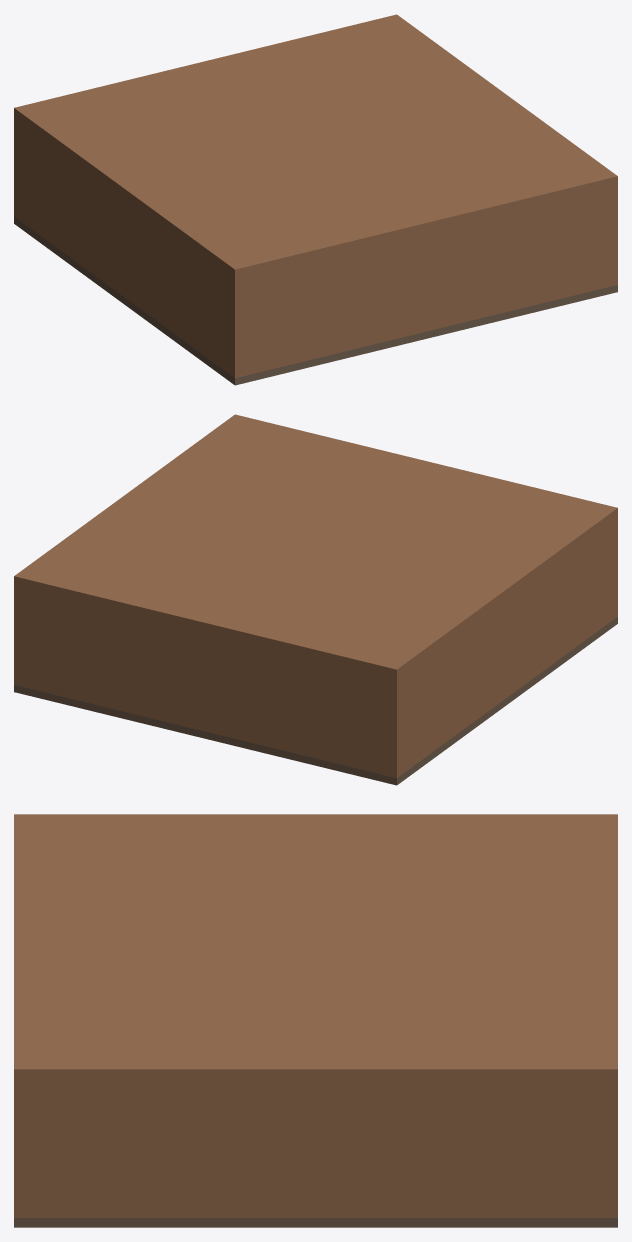
Rendered from desague.glb.
The picture shows the model from 3 angles, top to bottom: view 1: azimuth 30°, elevation 25°; view 2: azimuth 150°, elevation 25°; view 3: azimuth 270°, elevation 25°; orthographic projection. The views are drawn at different scales.
Visible parts, largest first — view 1: Des_techo-convcol, Des_muro_s-convcol, Des_muro_o-convcol, Des_piso-convcol; view 2: Des_techo-convcol, Des_muro_n-convcol, Des_muro_o-convcol, Des_piso-convcol; view 3: Des_techo-convcol, Des_muro_e-convcol, Des_piso-convcol, Des_muro_n-convcol, Des_muro_s-convcol.
Boxes of the visible parts, x1,y1,x2,y2 form: Des_techo-convcol: [14, 14, 617, 276]; Des_muro_s-convcol: [231, 183, 617, 378]; Des_muro_o-convcol: [18, 118, 230, 374]; Des_piso-convcol: [14, 217, 617, 385]; Des_techo-convcol: [14, 414, 617, 676]; Des_muro_n-convcol: [14, 583, 400, 778]; Des_muro_o-convcol: [401, 518, 613, 774]; Des_piso-convcol: [14, 617, 617, 785]; Des_techo-convcol: [14, 814, 617, 1079]; Des_muro_e-convcol: [25, 1079, 606, 1217]; Des_piso-convcol: [14, 1218, 617, 1227]; Des_muro_n-convcol: [607, 1079, 617, 1217]; Des_muro_s-convcol: [14, 1079, 24, 1217].
Size of the model in its own units: 16.6 by 4.8 by 16.6.
